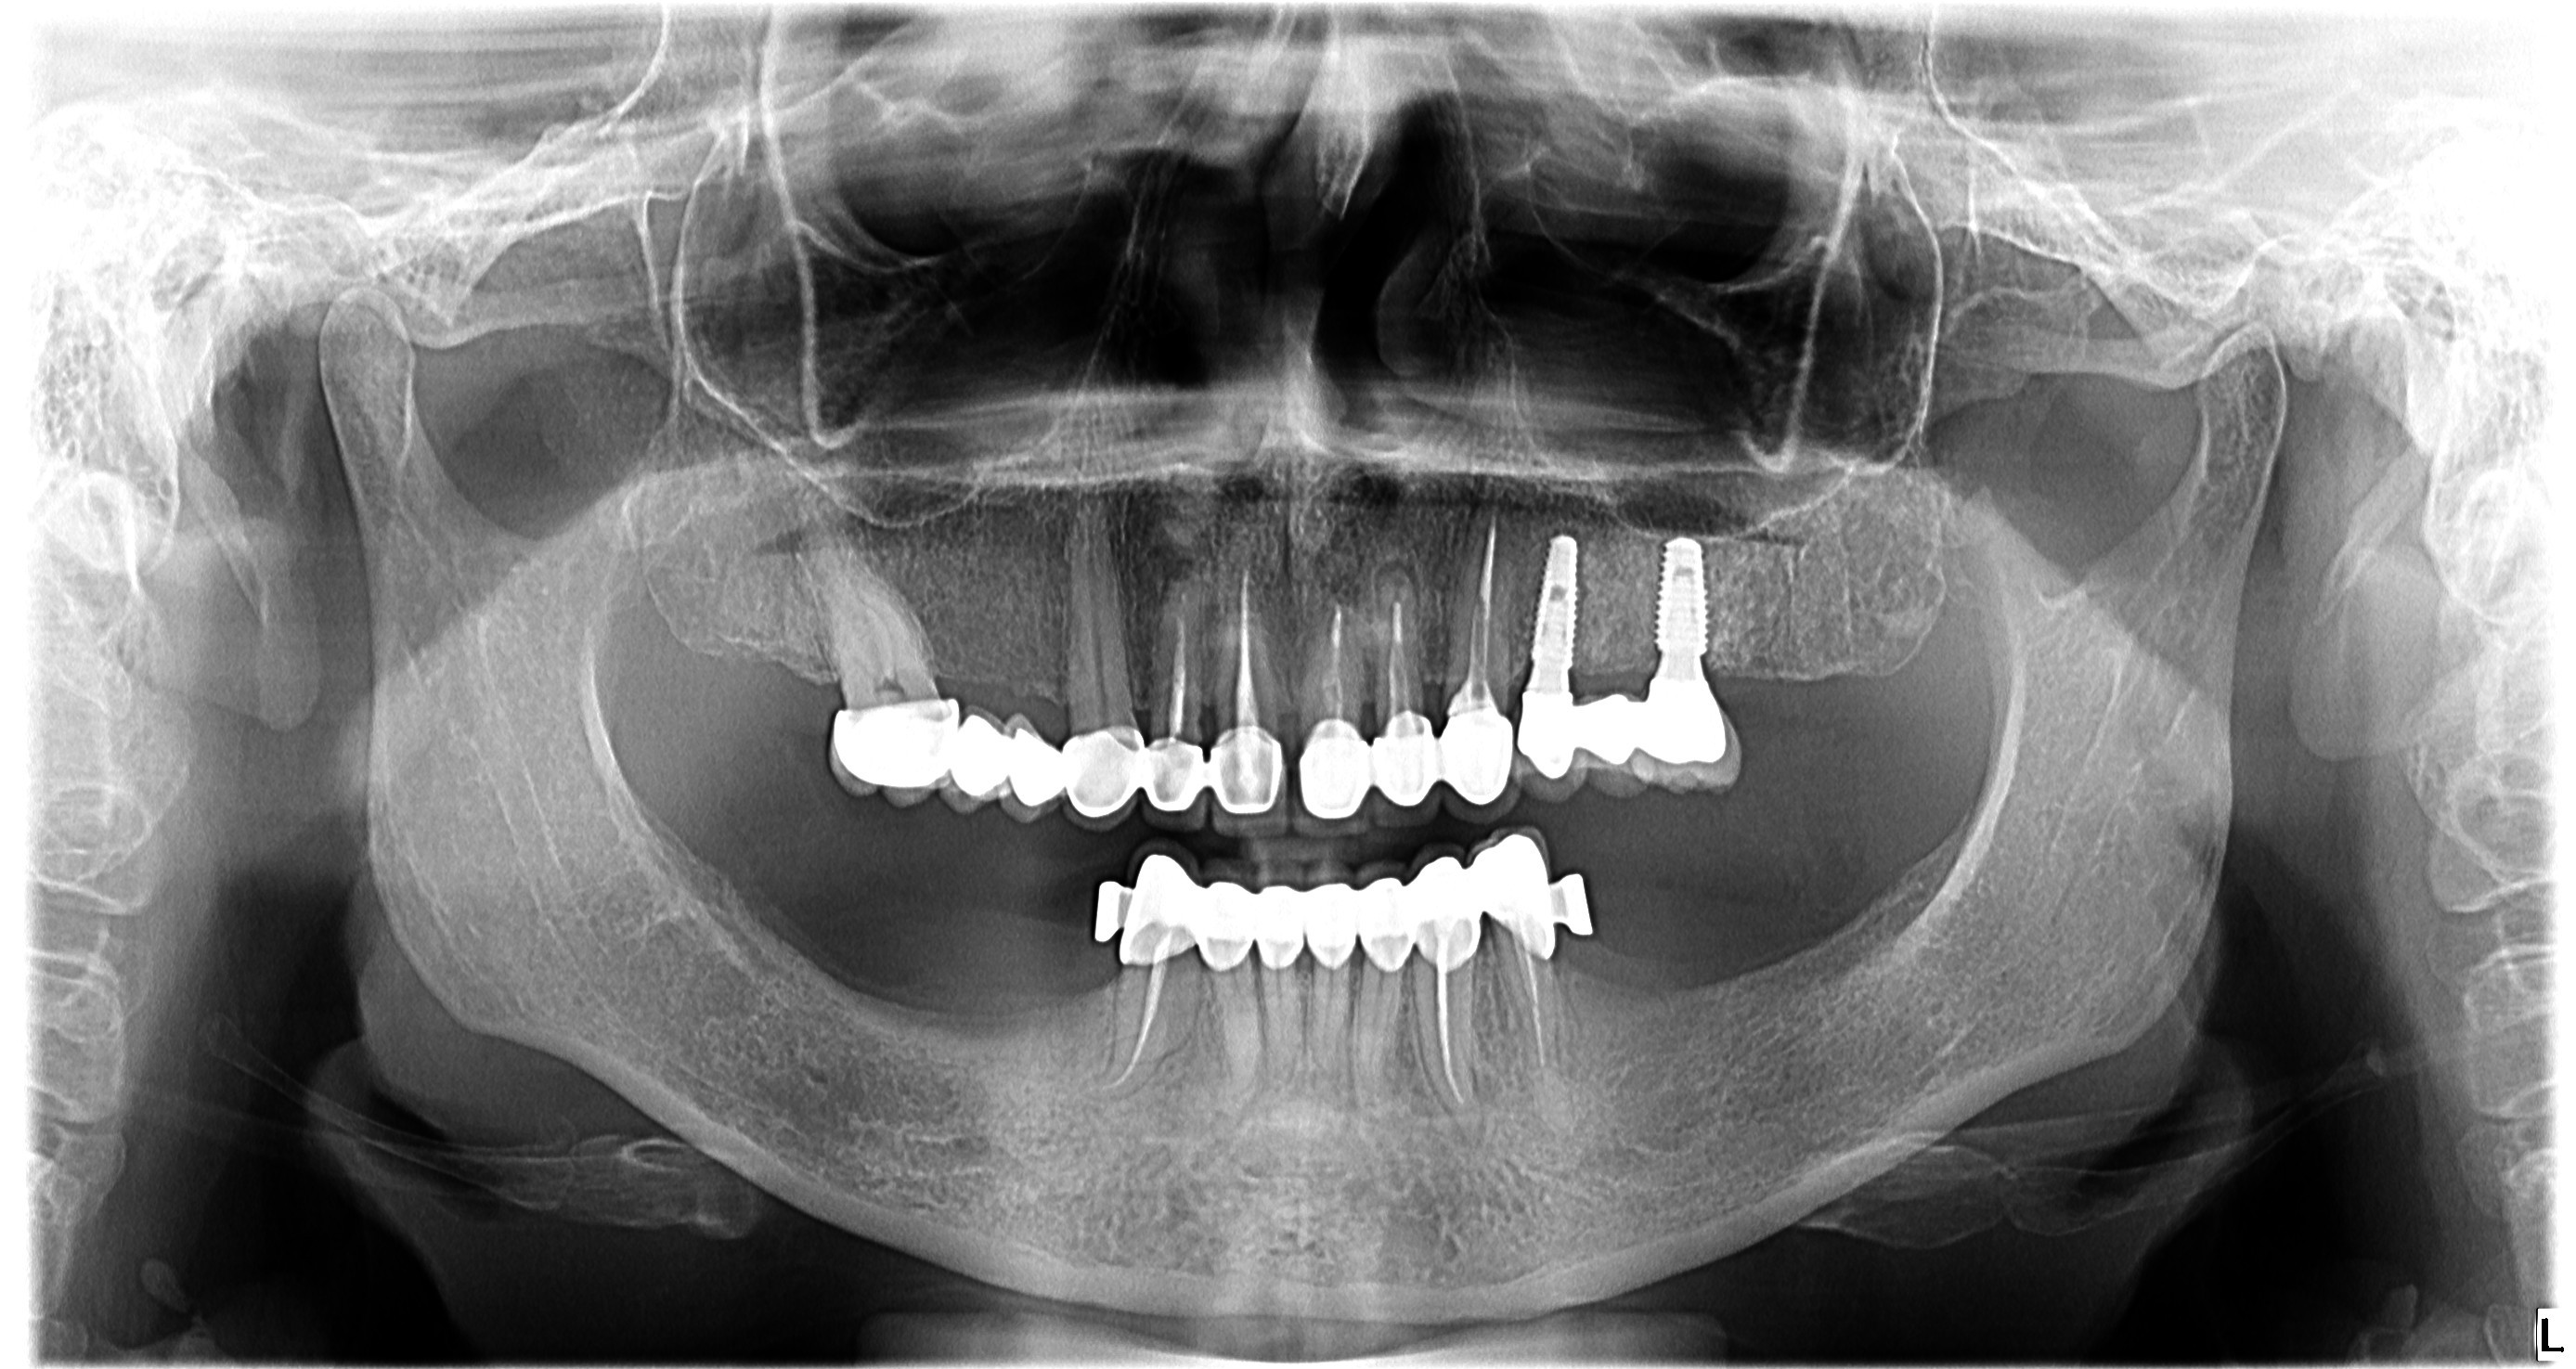API: (1365, 543, 1428, 615)
END: (1089, 960, 1194, 1100), (1443, 495, 1509, 710), (1504, 938, 1567, 1117), (1416, 971, 1482, 1119), (1218, 567, 1268, 729), (1148, 579, 1196, 741), (1314, 598, 1366, 725)
IMP: (1499, 523, 1600, 679), (1622, 531, 1739, 659)
PRR: (1060, 817, 1607, 989), (802, 681, 1281, 862), (1285, 695, 1515, 855), (1504, 669, 1750, 816)
